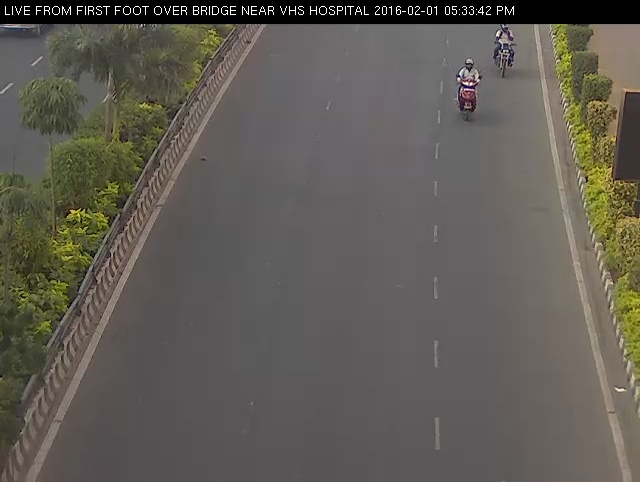Person: (453, 53, 487, 129), (485, 18, 523, 81)
